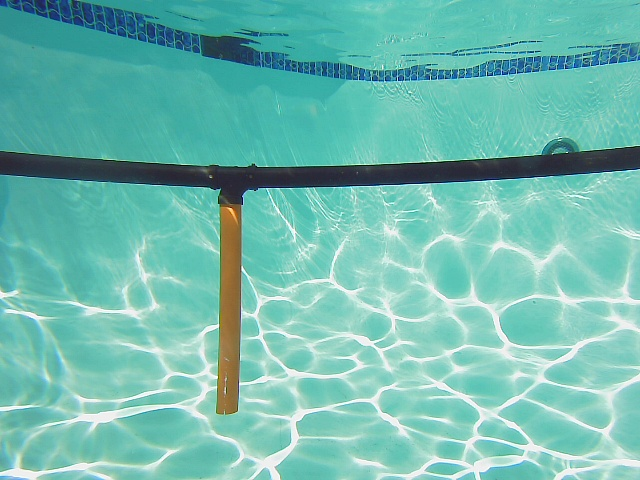Gate: (214, 202, 246, 418)
